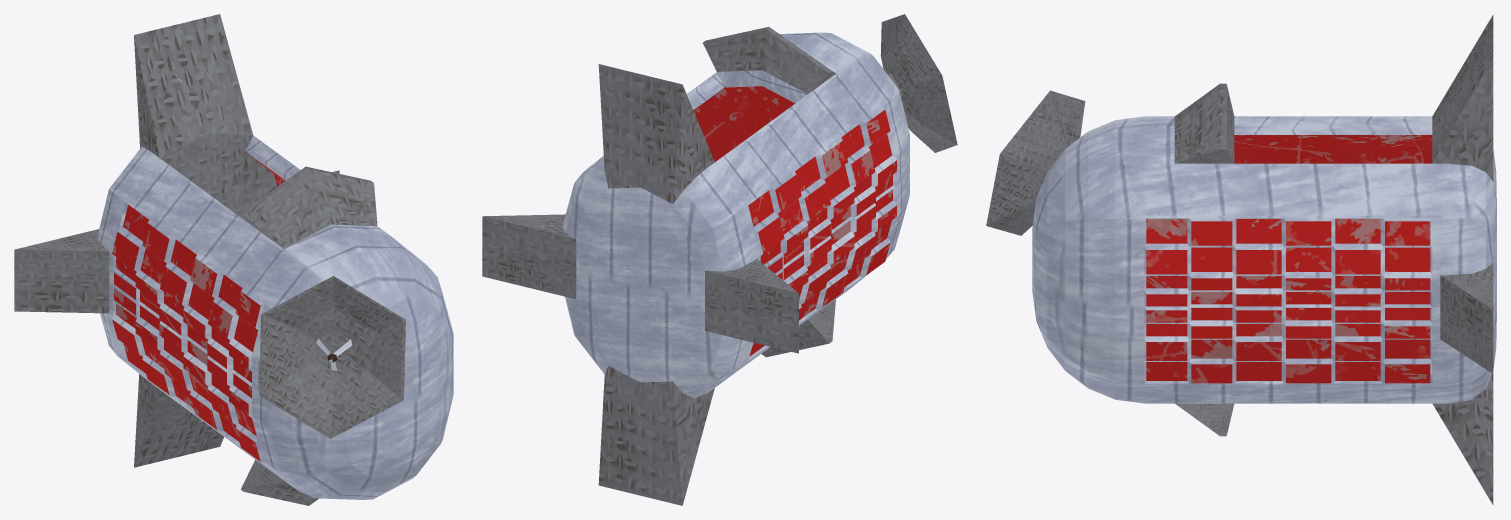
Rendered from camapana.glb.
3 renders of one model, left to right at view 1: azimuth 30°, elevation 25°; view 2: azimuth 150°, elevation 25°; view 3: azimuth 270°, elevation 25°, orthographic. The views are drawn at different scales.
Visible parts, largest first — view 1: camapana; view 2: camapana; view 3: camapana.
Part boxes in pixels (x1,y1,x2,y2): camapana: [14, 14, 453, 505]; camapana: [482, 14, 957, 505]; camapana: [986, 15, 1496, 504].
Size of the model in its own units: 3.48 by 4.42 by 4.56.
1 material, 1 textured.
